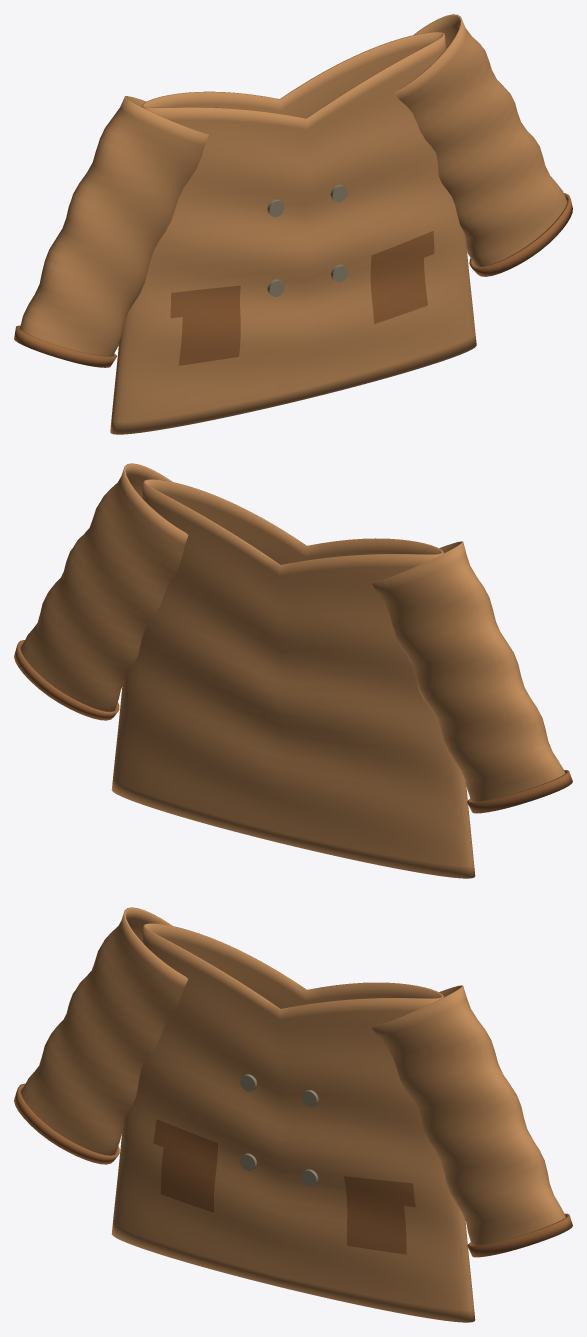
The model's file is loan-coat.glb.
3 views of the same model, one above another, from view 1: azimuth 30°, elevation 25°; view 2: azimuth 150°, elevation 25°; view 3: azimuth 330°, elevation 25° (orthographic).
Parts seen in each view (by area): view 1: Jacket body, Right sleeve, Left sleeve, Right cuff, Left cuff; view 2: Jacket body, Right sleeve, Left sleeve, Right cuff, Left cuff; view 3: Jacket body, Left sleeve, Right sleeve, Left cuff, Right cuff.
Part boxes in pixels (x1=…): Jacket body: x1=110, y1=32, x2=476, y2=434; Right sleeve: x1=19, y1=96, x2=208, y2=356; Left sleeve: x1=394, y1=14, x2=567, y2=266; Right cuff: x1=469, y1=193, x2=572, y2=276; Left cuff: x1=14, y1=325, x2=116, y2=367; Jacket body: x1=111, y1=479, x2=475, y2=878; Right sleeve: x1=371, y1=541, x2=565, y2=801; Left sleeve: x1=20, y1=463, x2=188, y2=711; Right cuff: x1=14, y1=640, x2=119, y2=720; Left cuff: x1=467, y1=770, x2=572, y2=813; Jacket body: x1=111, y1=923, x2=475, y2=1322; Left sleeve: x1=371, y1=985, x2=565, y2=1245; Right sleeve: x1=21, y1=907, x2=188, y2=1155; Left cuff: x1=14, y1=1083, x2=119, y2=1164; Right cuff: x1=467, y1=1213, x2=572, y2=1257.
Size of the model in its own units: 0.6576 by 0.3743 by 0.0657.
